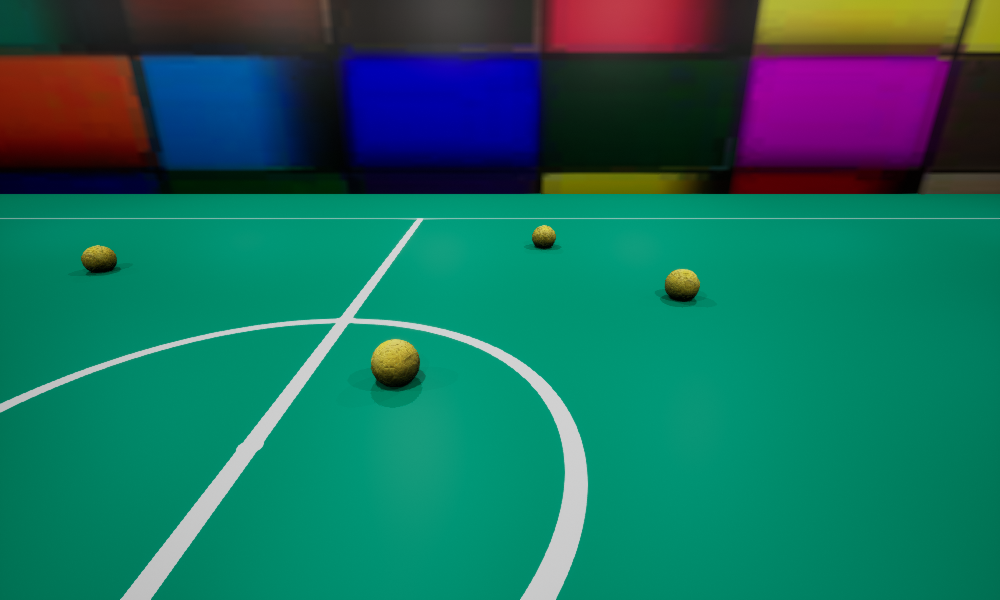b: (371, 339, 419, 385), (665, 269, 699, 300), (81, 245, 116, 272), (532, 225, 555, 247)
